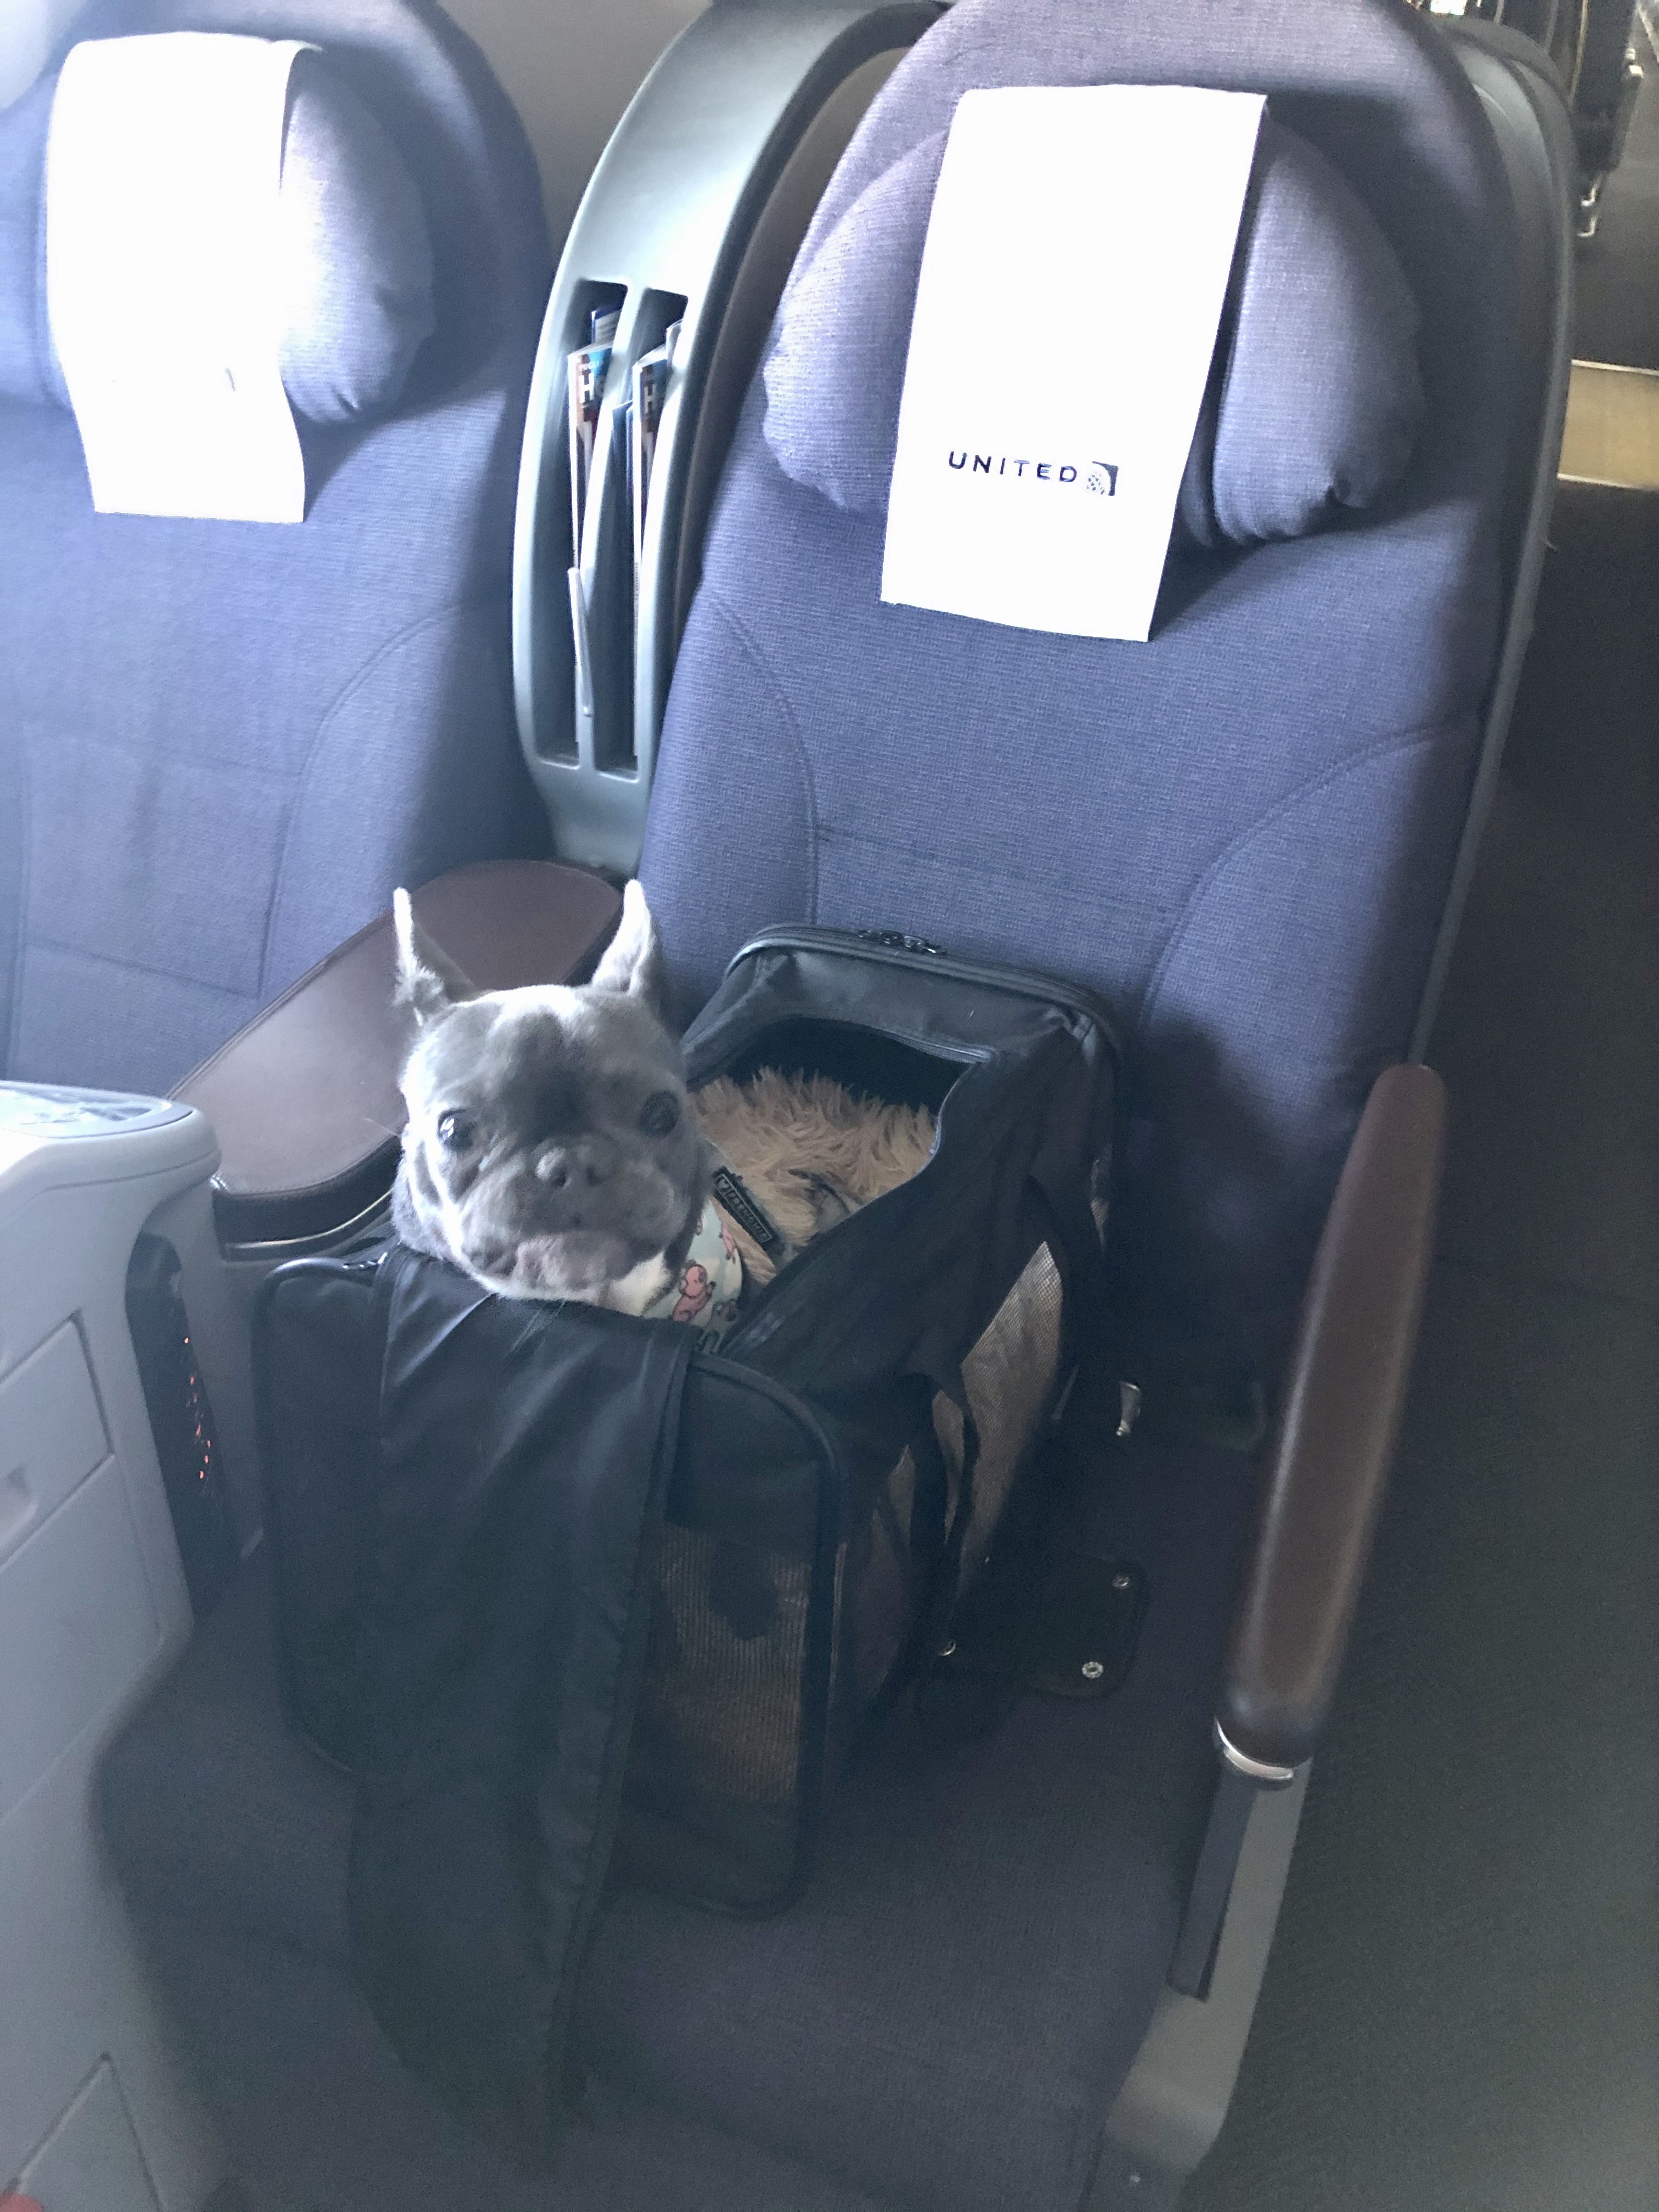lucy: (376, 866, 777, 1336)
